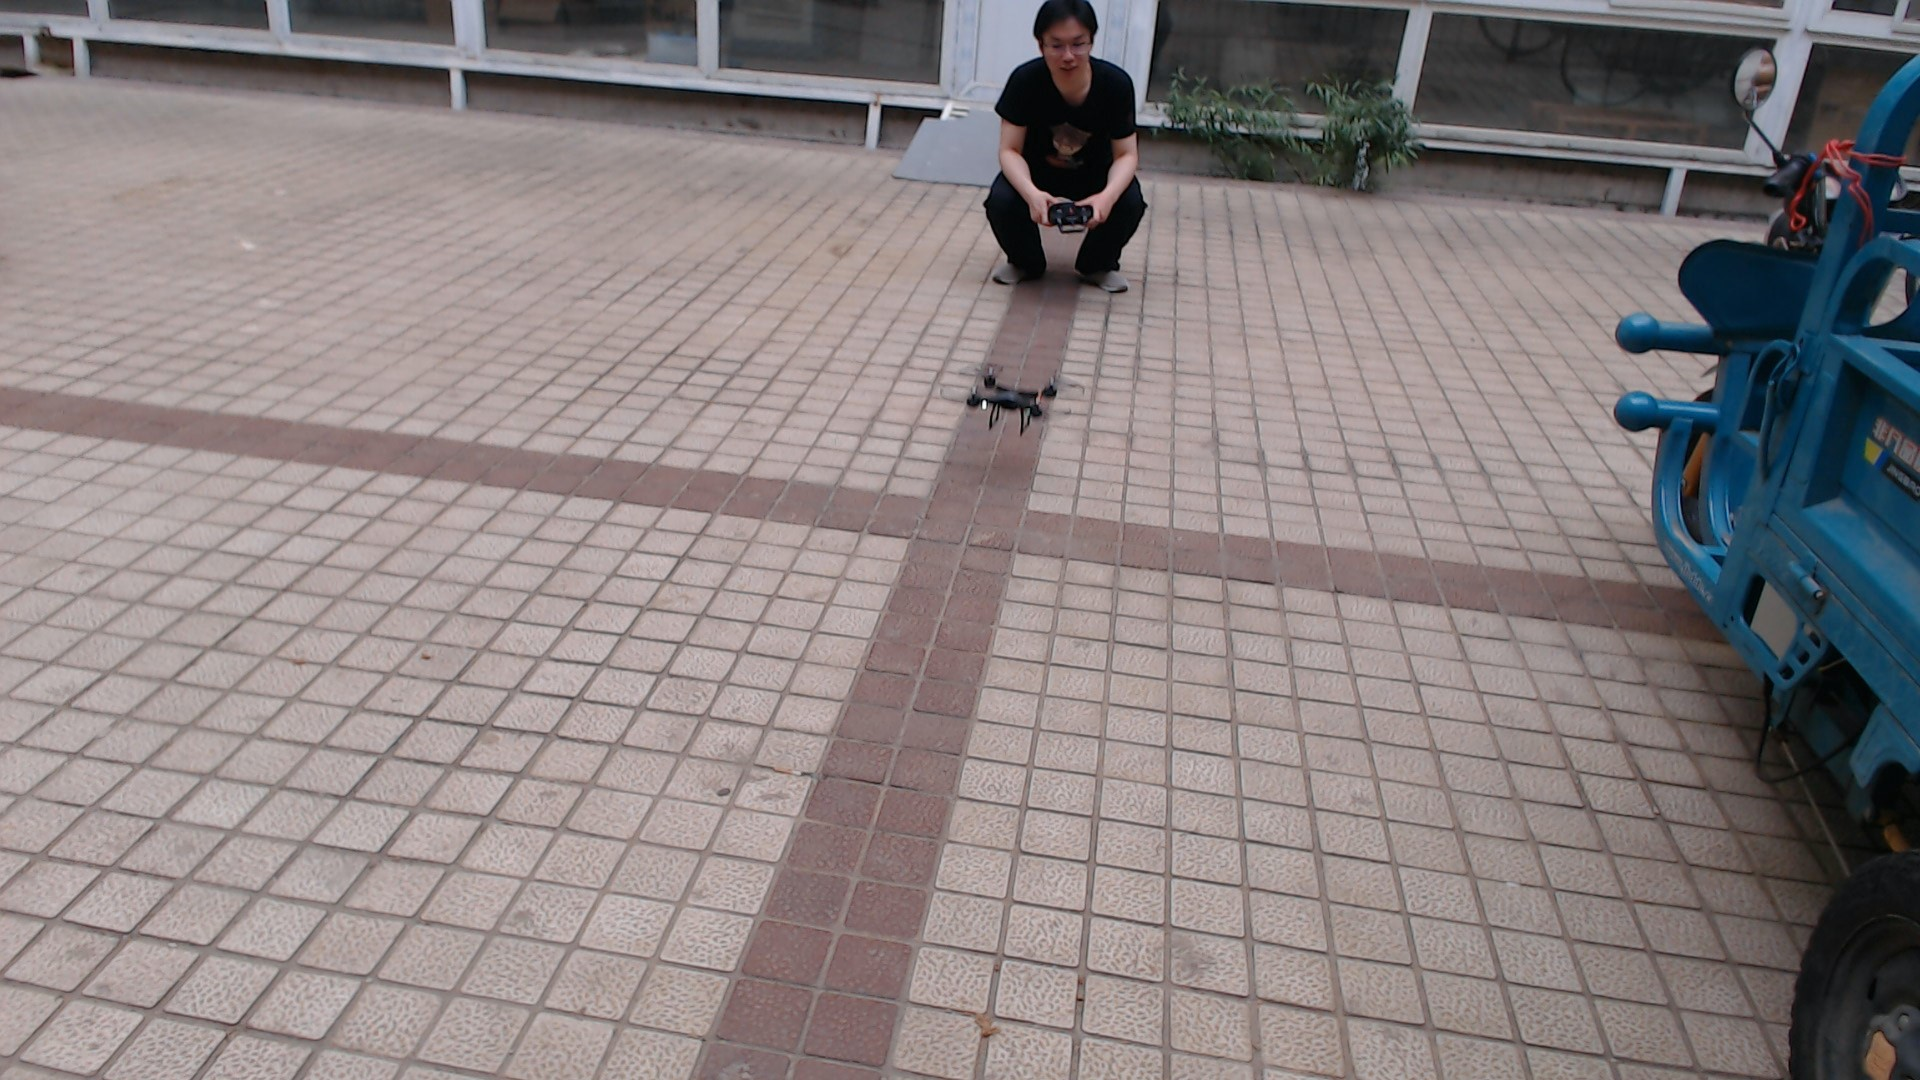drone: (933, 341, 1096, 448)
person: (984, 1, 1147, 296)
